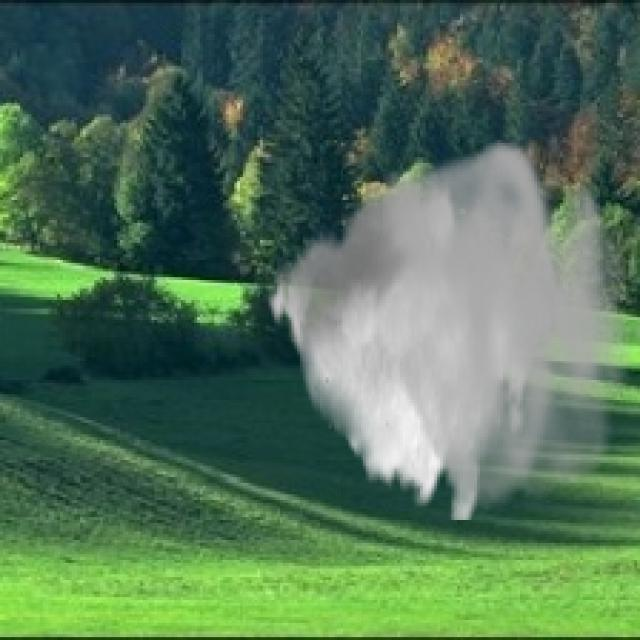smoke: (266, 134, 631, 520)
